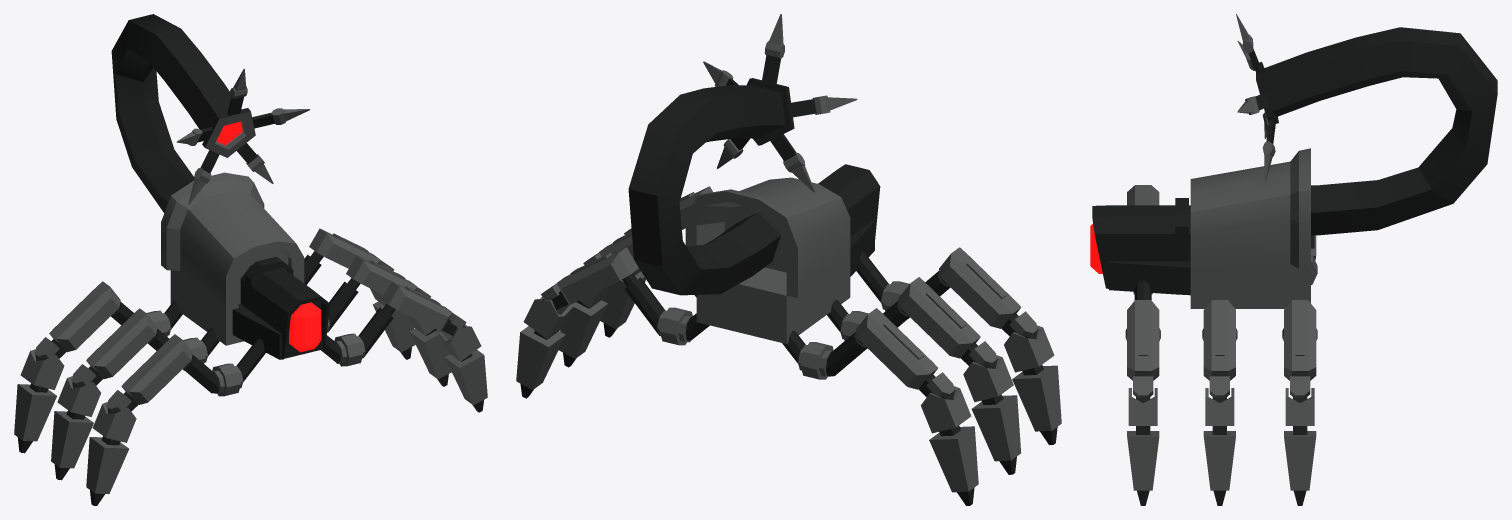
Rendered from enemy.gltf.
3 views of the same model, side by side, from view 1: azimuth 30°, elevation 25°; view 2: azimuth 150°, elevation 25°; view 3: azimuth 270°, elevation 25° (orthographic). The views are drawn at different scales.
Parts seen in each view (by area): view 1: pCube16, pCylinder6, pCube8, pCube7, pCube17, pCube6; view 2: pCube16, pCylinder6, pCube8, pCube17, pCube7; view 3: pCylinder6, pCube16, pCube8, pCube7, pCube17.
Boxes of the visible parts, x1,y1,x2,y2 form: pCube16: (14,228,487,505); pCylinder6: (111,14,255,212); pCube8: (161,172,304,345); pCube7: (232,256,330,359); pCube17: (176,69,309,204); pCube6: (289,302,321,352); pCube16: (516,186,1061,505); pCylinder6: (628,78,794,295); pCube8: (685,177,850,343); pCube17: (703,14,857,192); pCube7: (818,164,880,276); pCylinder6: (1256,27,1497,235); pCube16: (1125,185,1317,505); pCube8: (1190,148,1310,308); pCube7: (1092,198,1190,295); pCube17: (1236,14,1275,183).
Size of the model in its own units: 1.3 by 1.13 by 1.07.
1 material, 1 textured.
